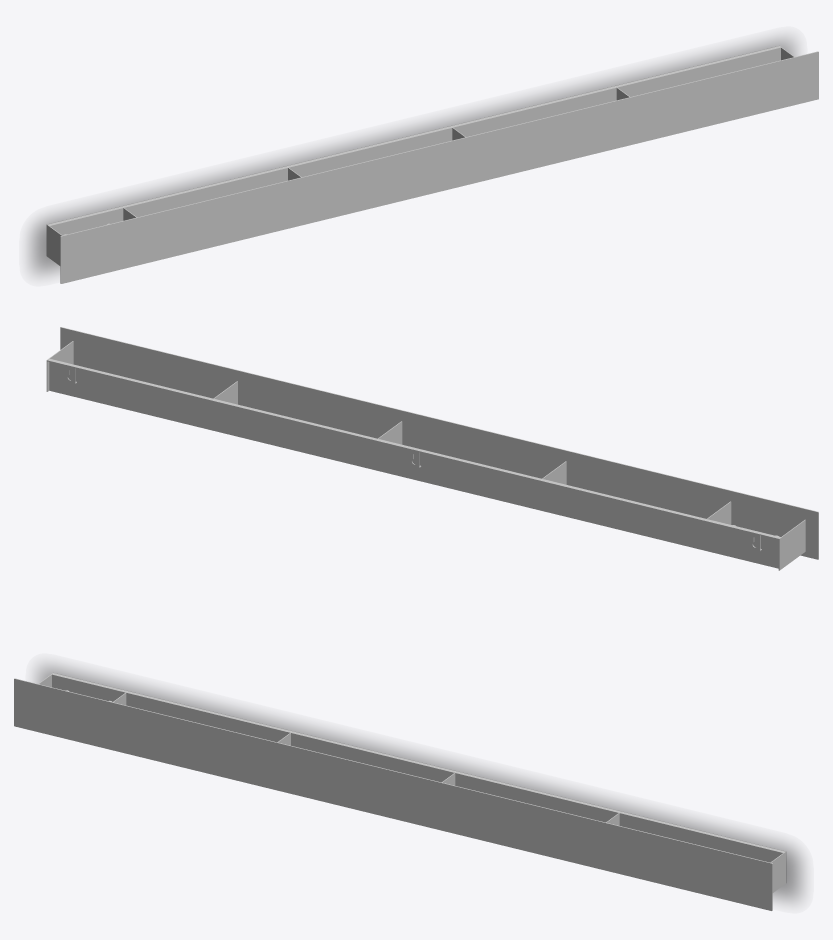
File: skyline-patron.6425ef5a36.ar.glb
3 renders of one model, top to bottom at view 1: azimuth 30°, elevation 25°; view 2: azimuth 150°, elevation 25°; view 3: azimuth 330°, elevation 25°, orthographic.
Visible parts, largest first — view 1: NAUO1, object 2; view 2: NAUO1; view 3: NAUO1, object 2.
Part boxes in pixels (bbox=[...]): NAUO1: bbox=[46, 45, 818, 283]; object 2: bbox=[29, 38, 797, 274]; NAUO1: bbox=[46, 327, 818, 570]; NAUO1: bbox=[14, 672, 786, 910]; object 2: bbox=[35, 665, 803, 901].
Bounding box in the file's own units: 1.58 × 0.17 × 0.092.
Materials: 2 (1 with a texture image).
